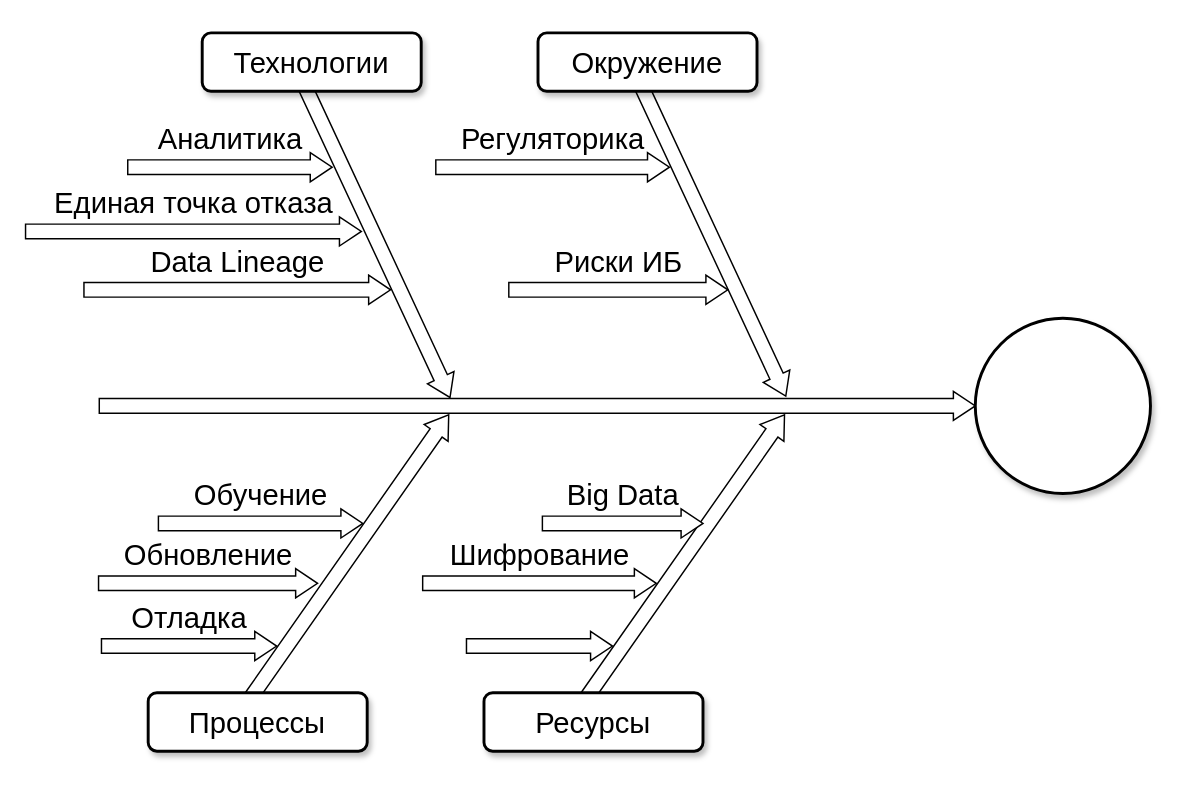
This 1186x787 diagram has some shape labels left out. Each missing label, with the centre of its shape:
Сеть: (538,645)
Узкие места: (1063,407)
